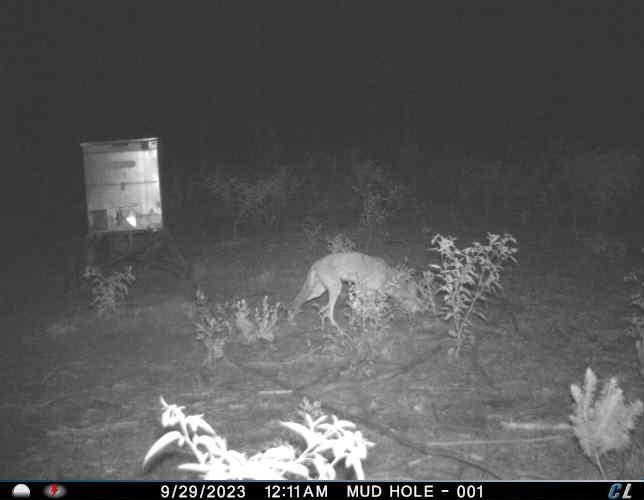Coyote: (285, 248, 411, 334)
